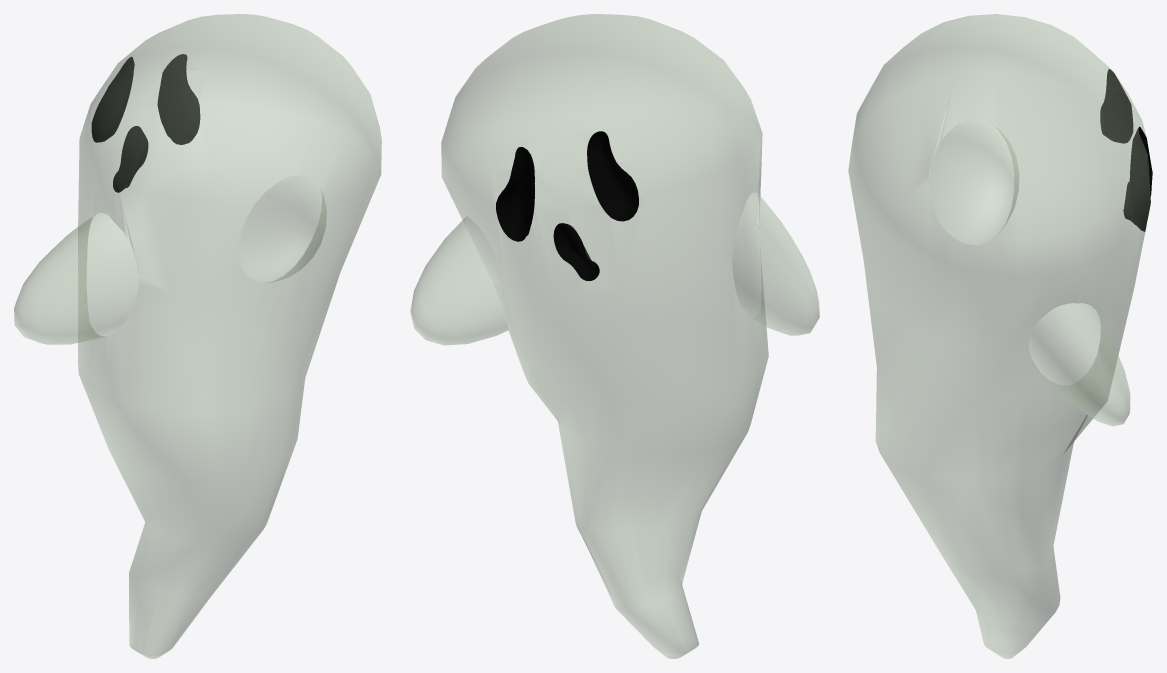
File: hayalet.fbx
The picture shows the model from 3 angles, left to right: view 1: azimuth 30°, elevation 25°; view 2: azimuth 150°, elevation 25°; view 3: azimuth 270°, elevation 25°; orthographic projection. The views are drawn at different scales.
Visible parts, largest first — view 1: Component_3_1; view 2: Component_3_1; view 3: Component_3_1.
Part boxes in pixels (box(x1,y1,x2,y2)): Component_3_1: box(14, 14, 381, 658); Component_3_1: box(410, 14, 819, 658); Component_3_1: box(848, 14, 1152, 658).
Bounding box in the file's own units: 34.84 × 57.5 × 24.03.
